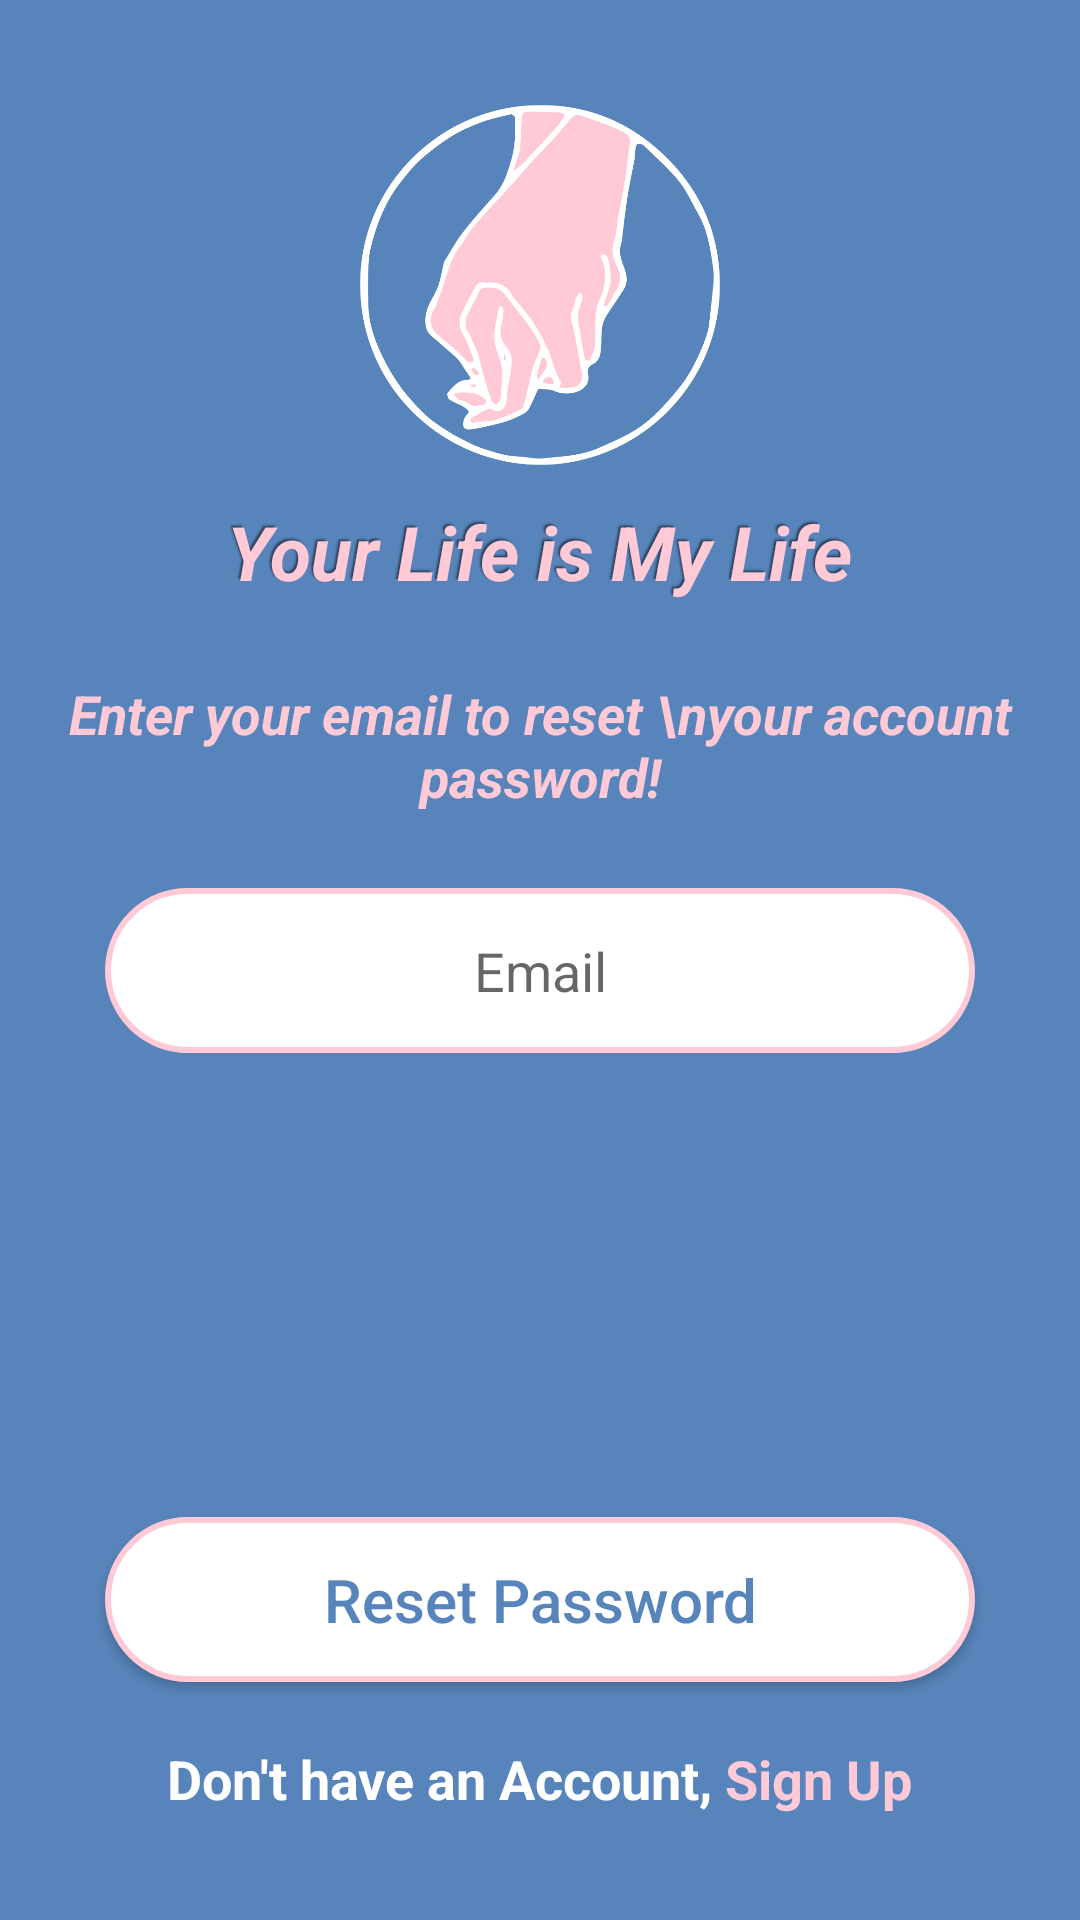

Locate icon controls on the screen. Image size 1080 × 1920, boxes as [x1, y1, x2, y2].
hands tran: [360, 105, 720, 465]
